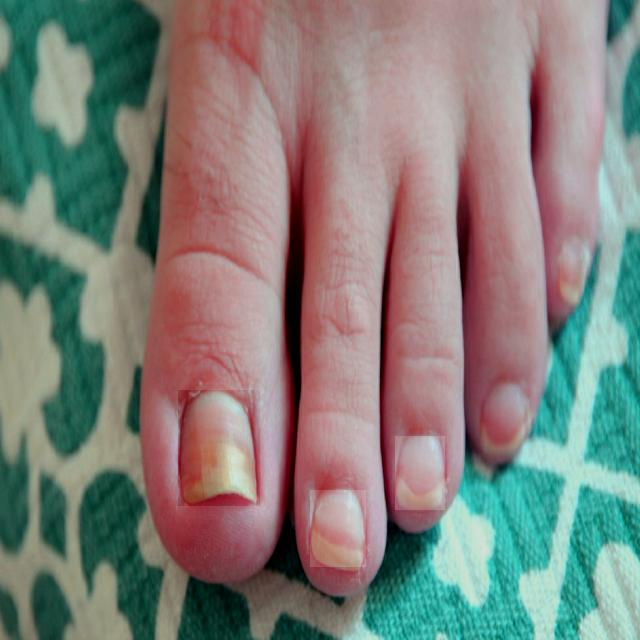diabetes: (179, 391, 260, 506), (311, 490, 366, 567), (396, 437, 445, 510)
